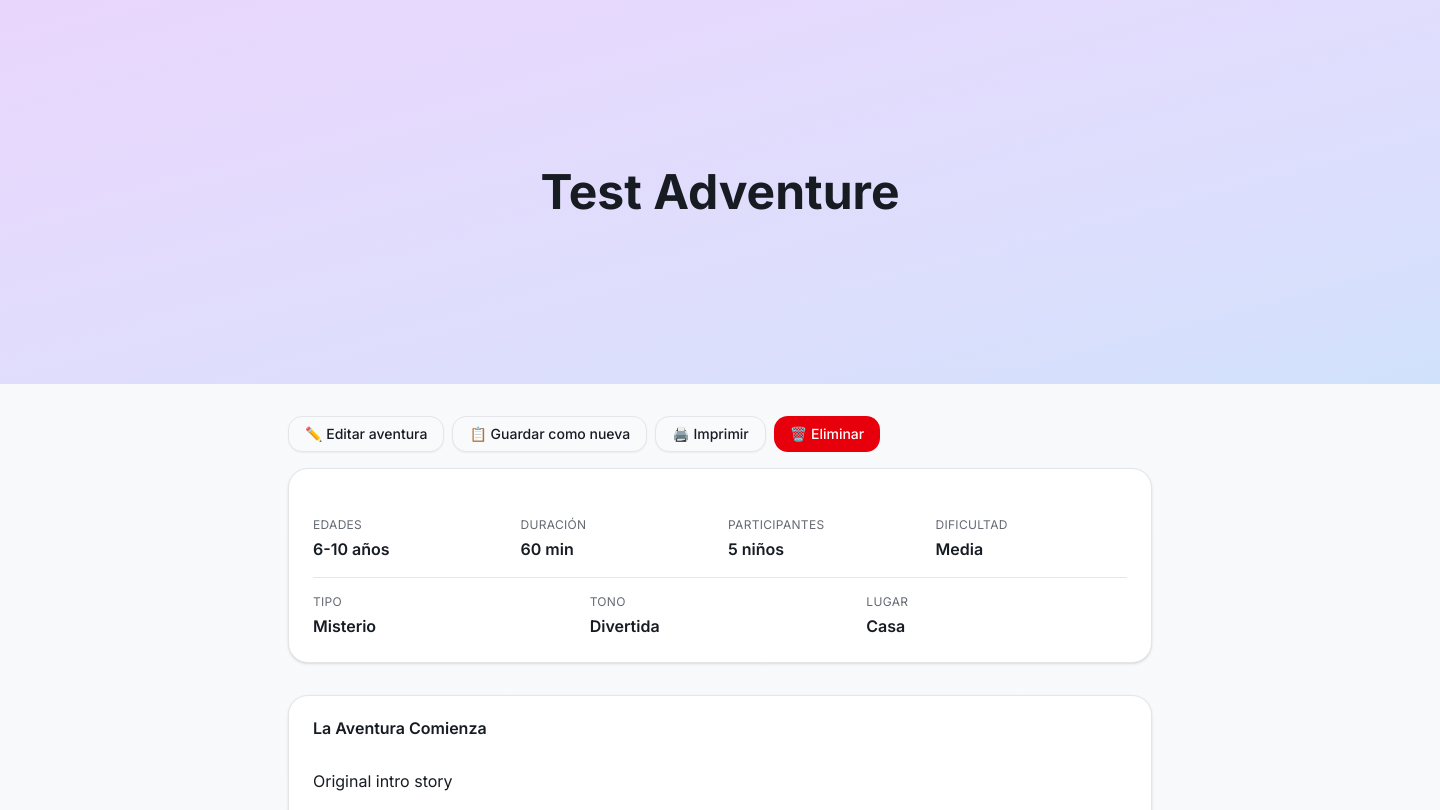
Scenario: AdventureDetailPage - Edit Mode › should hide edit button when in edit mode
The width and height of the screenshot is (1440, 810).
Expected: the heading "Test Adventure" is shown, [540,168,900,216]
What coordinates should you click on to do the following:
click the button "✏️ Editar aventura"
I would click on:
 (366, 434)
Its box is [288,416,444,452].
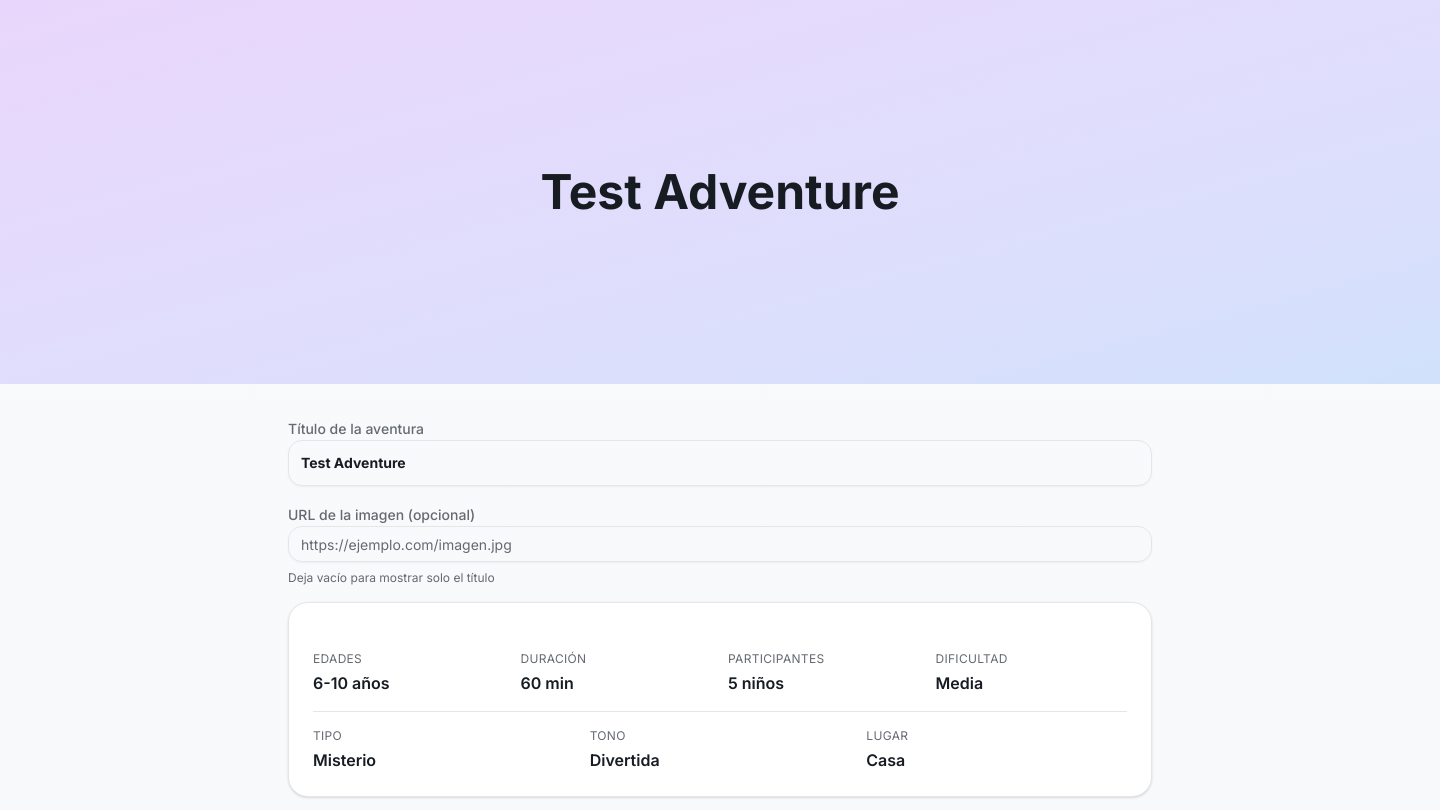
Expected: the button "Editar aventura" is gone
